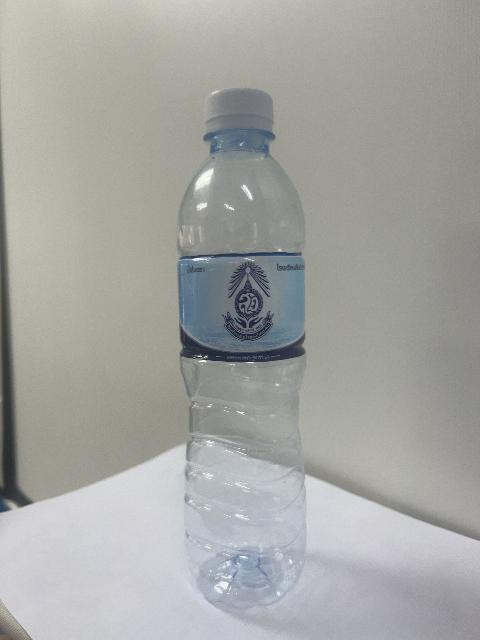bottle: (179, 89, 305, 607)
